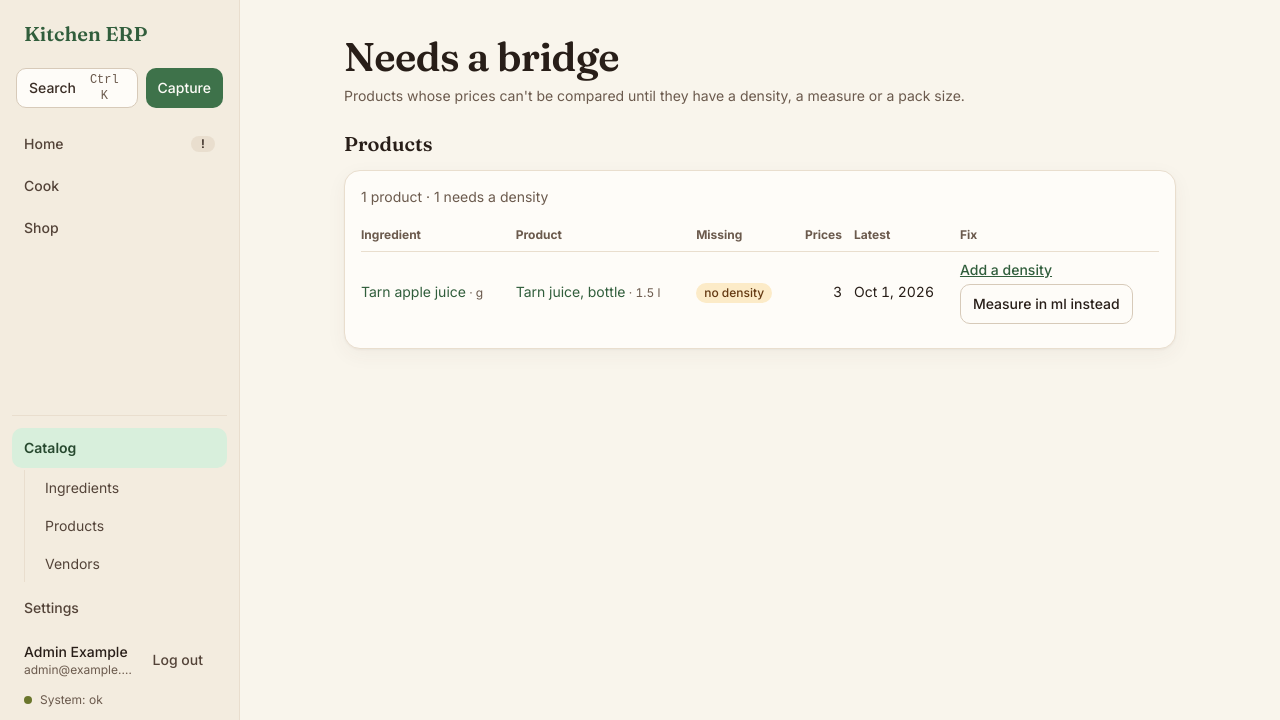
Scenario: Measure in ml instead (issue 358) › says what changes, then switches the unit and drops the measures in g
The image size is (1280, 720).
Check: the link "Add a density" is shown, box [960,260,1052,280]
Click the button "Measure in ml instead" at {"x": 1046, "y": 304}, box [960,284,1133,324]
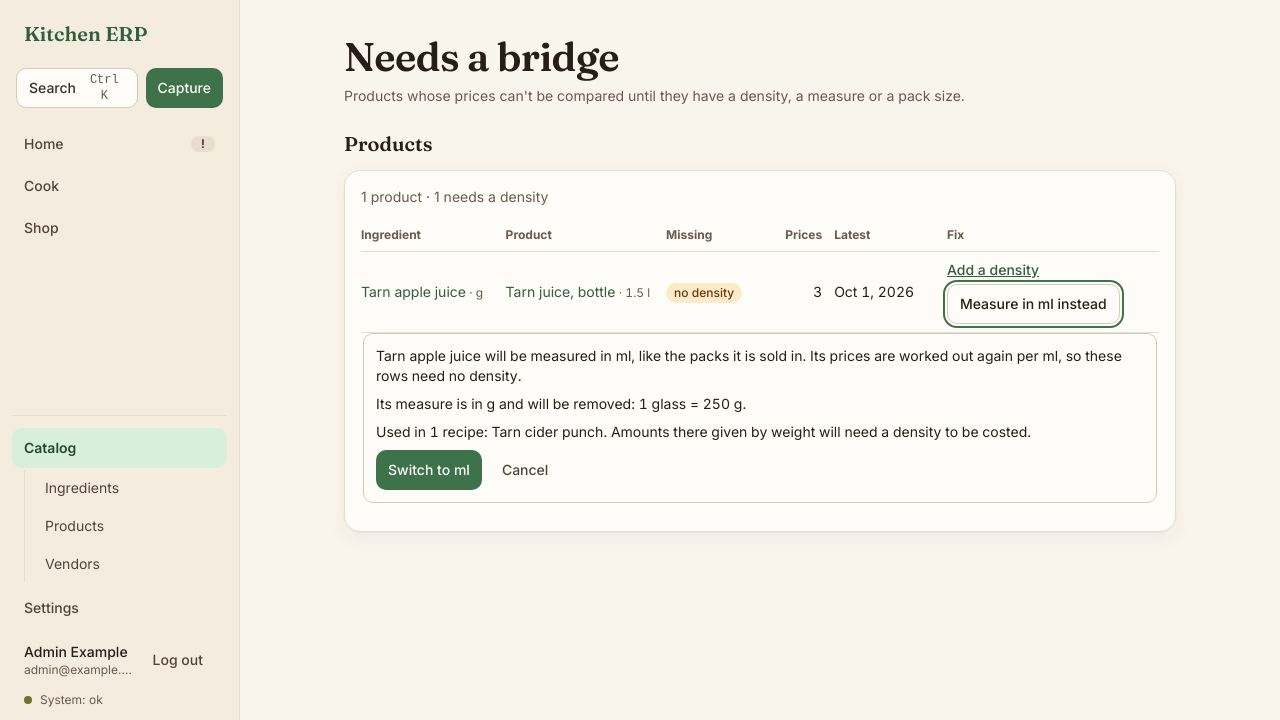
Check: the text "Its measure is in g and will be removed: 1 glass = 250 g." is shown, box [376,395,746,412]
Check: the text "Used in 1 recipe: Tarn cider punch." is shown, box [376,422,1144,442]
Click the button "Switch to ml" at {"x": 429, "y": 470}, box [376,450,482,490]
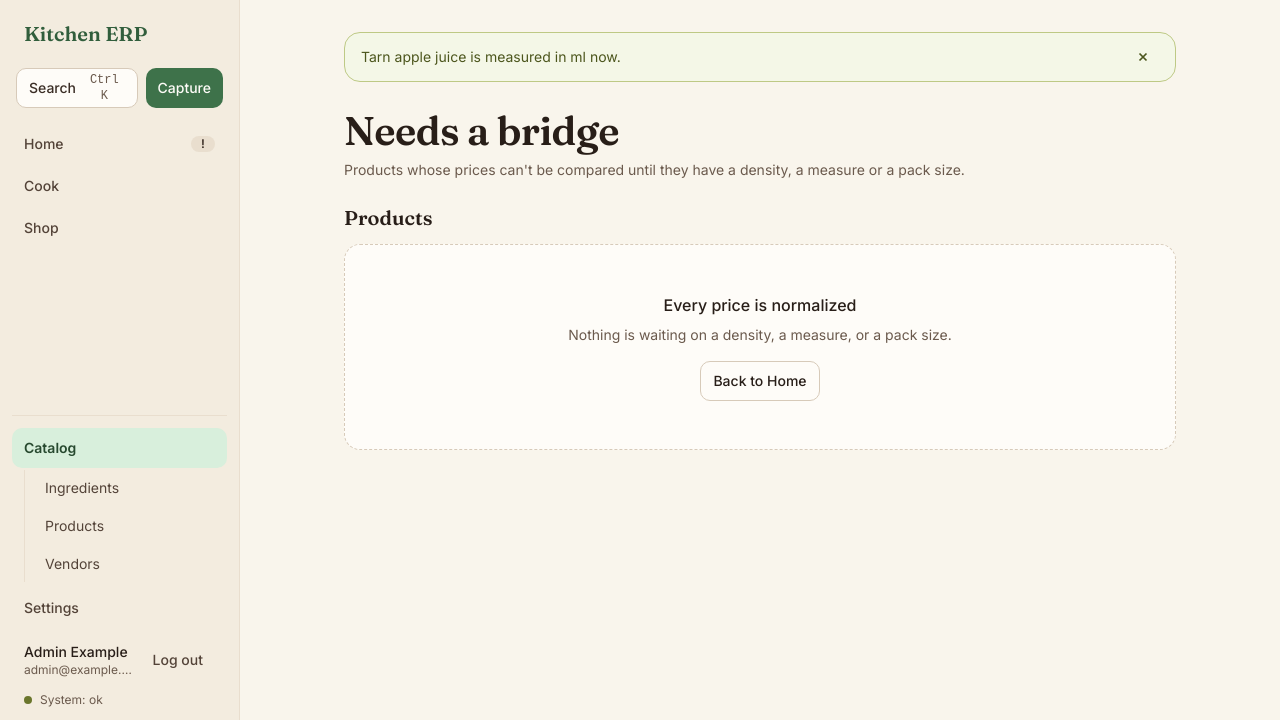
Check: the message with test id "notice" reads "Tarn apple juice is measured in ml now.", box [361,48,621,65]
Check: the text "Every price is normalized" is shown, box [664,295,856,315]
